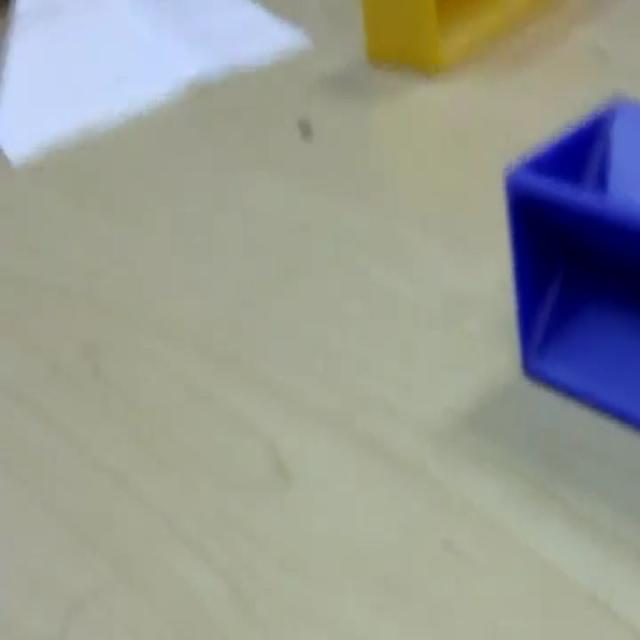blue_block: (501, 93, 639, 430)
yellow_block: (360, 0, 562, 75)
